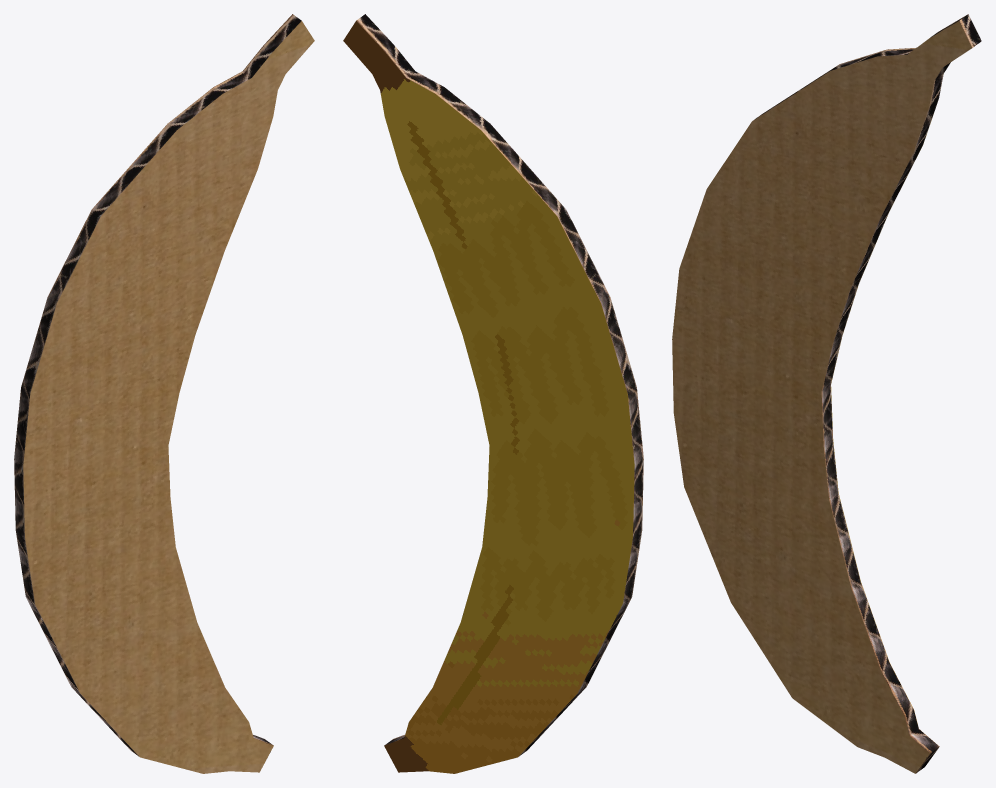
File: BANANA_A.glb
3 renders of one model, left to right at view 1: azimuth 30°, elevation 25°; view 2: azimuth 150°, elevation 25°; view 3: azimuth 330°, elevation 25°, orthographic. The views are drawn at different scales.
Visible parts, largest first — view 1: BANANA; view 2: BANANA; view 3: BANANA.
Boxes of the visible parts, bbox=[...] form: BANANA: bbox=[14, 14, 314, 773]; BANANA: bbox=[343, 14, 643, 773]; BANANA: bbox=[672, 14, 981, 773].
Size of the model in its own units: 1.1 by 2.67 by 0.0601.
Materials: 1 (1 with a texture image).
